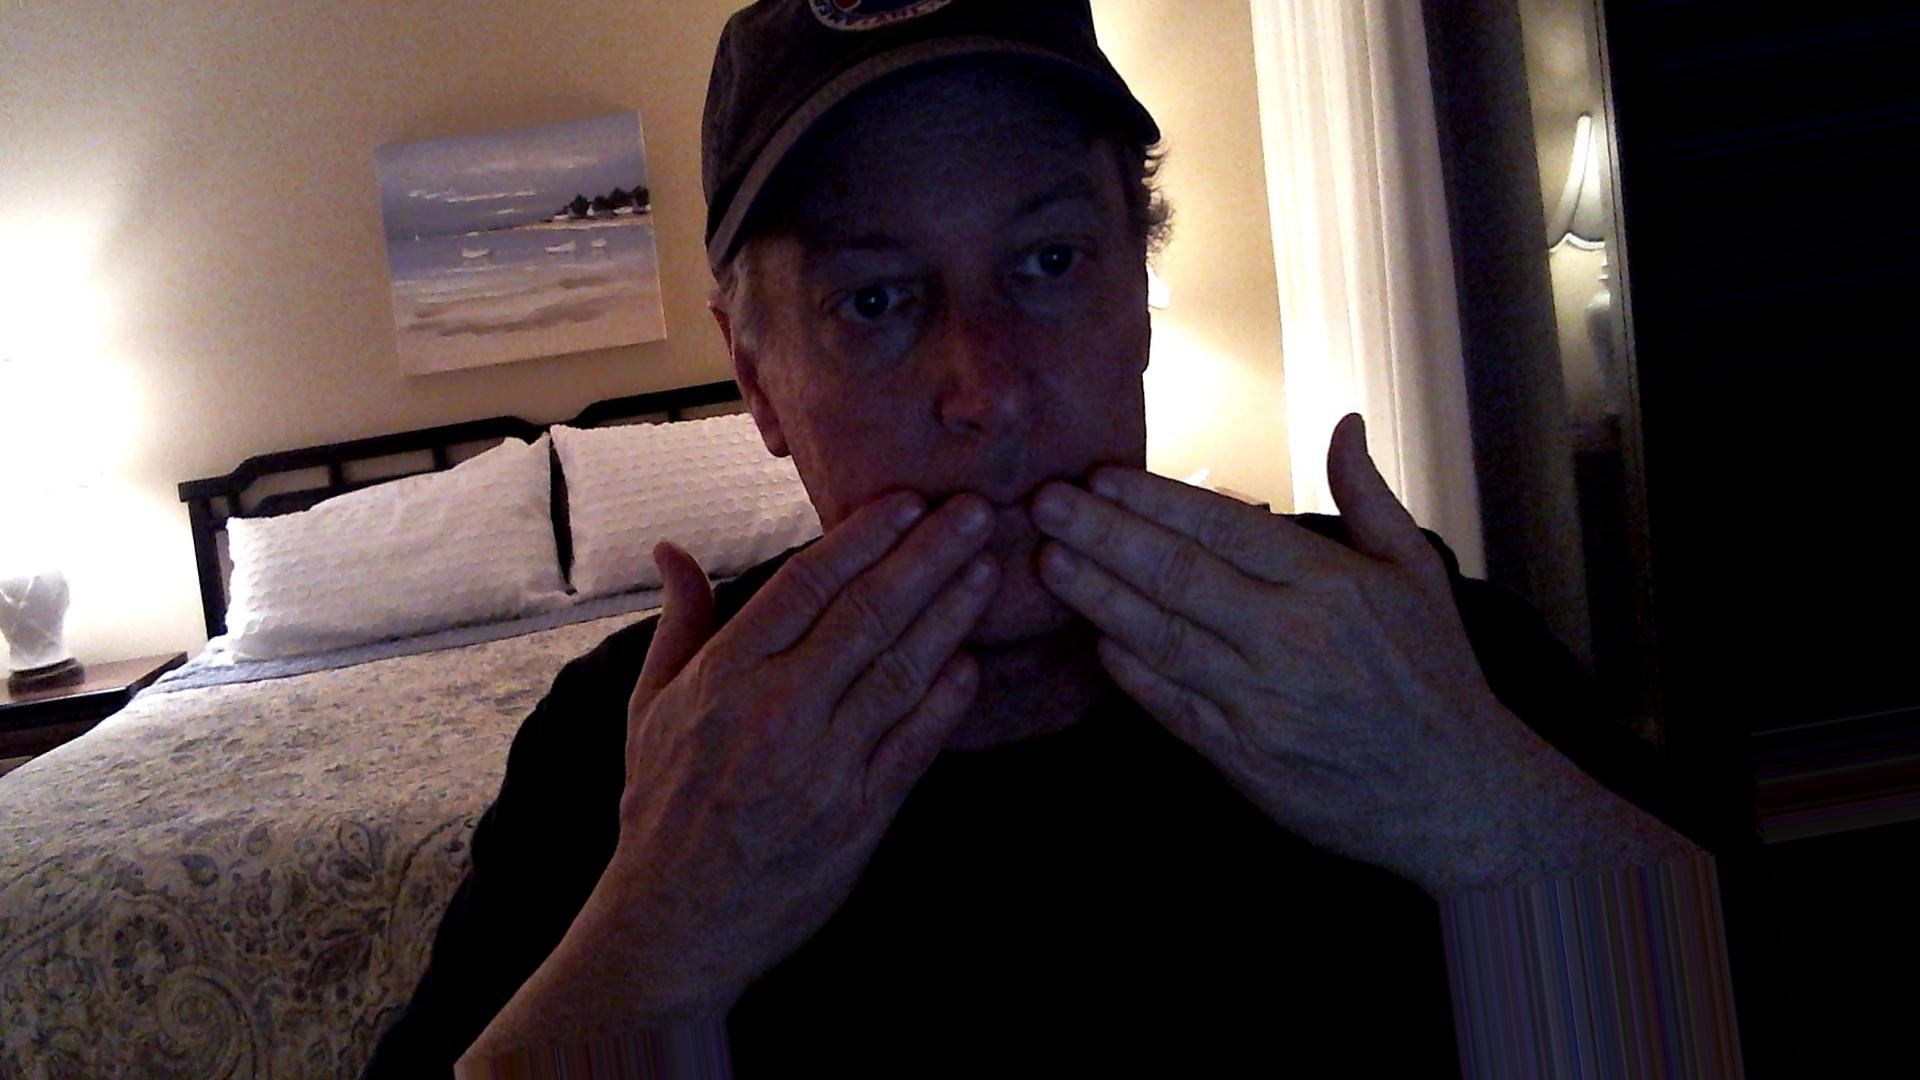Thank You: (609, 396, 1469, 844)
